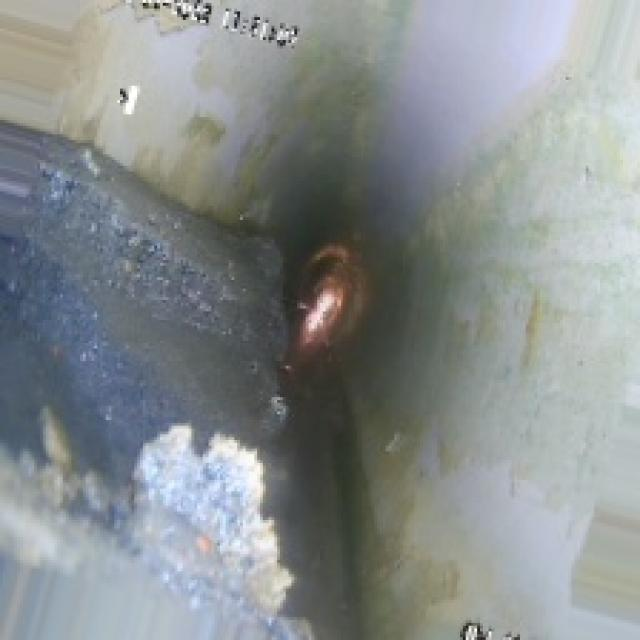sluge accumulation: (43, 163, 343, 623)
